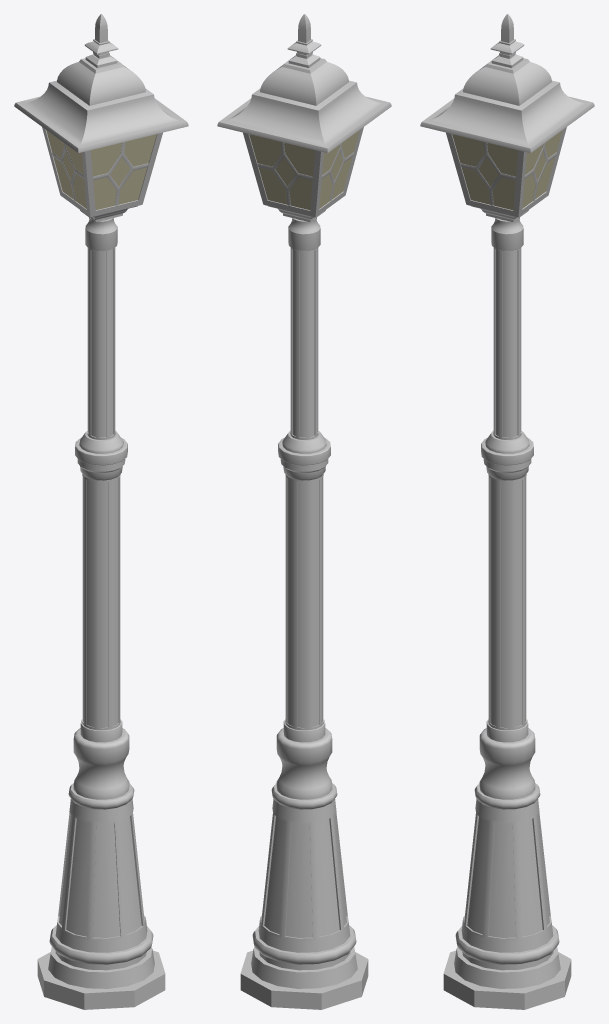
File: streetlight.obj
The picture shows the model from 3 angles, left to right: view 1: azimuth 30°, elevation 25°; view 2: azimuth 150°, elevation 25°; view 3: azimuth 330°, elevation 25°; orthographic projection.
Parts seen in each view (by area): view 1: Lamp_Цилиндр.002, glass_Куб.005; view 2: Lamp_Цилиндр.002, glass_Куб.005; view 3: Lamp_Цилиндр.002, glass_Куб.005.
Part boxes in pixels (<box>): Lamp_Цилиндр.002: <box>14,14,188,1009</box>; glass_Куб.005: <box>46,130,156,210</box>; Lamp_Цилиндр.002: <box>217,14,391,1009</box>; glass_Куб.005: <box>249,130,359,210</box>; Lamp_Цилиндр.002: <box>420,14,594,1009</box>; glass_Куб.005: <box>452,130,562,210</box>.
Size of the model in its own units: 0.4258 by 3.44 by 0.4258.
